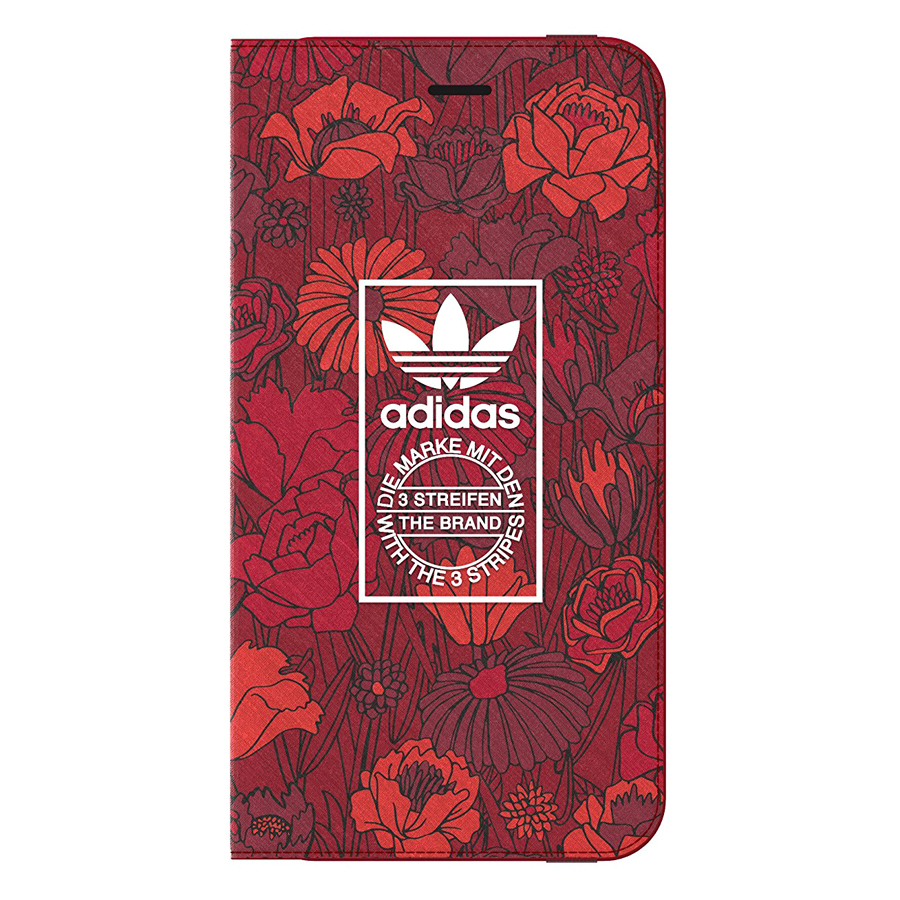Adidas: (372, 287, 531, 431)
